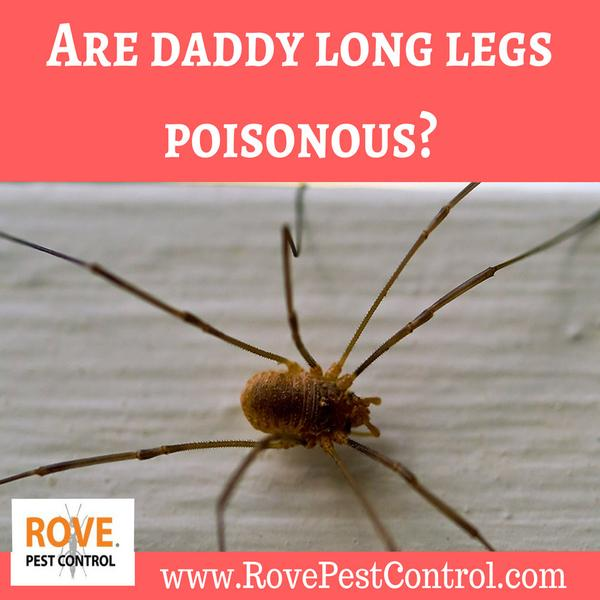Daddy Long Legs Spider: (2, 181, 597, 551)
